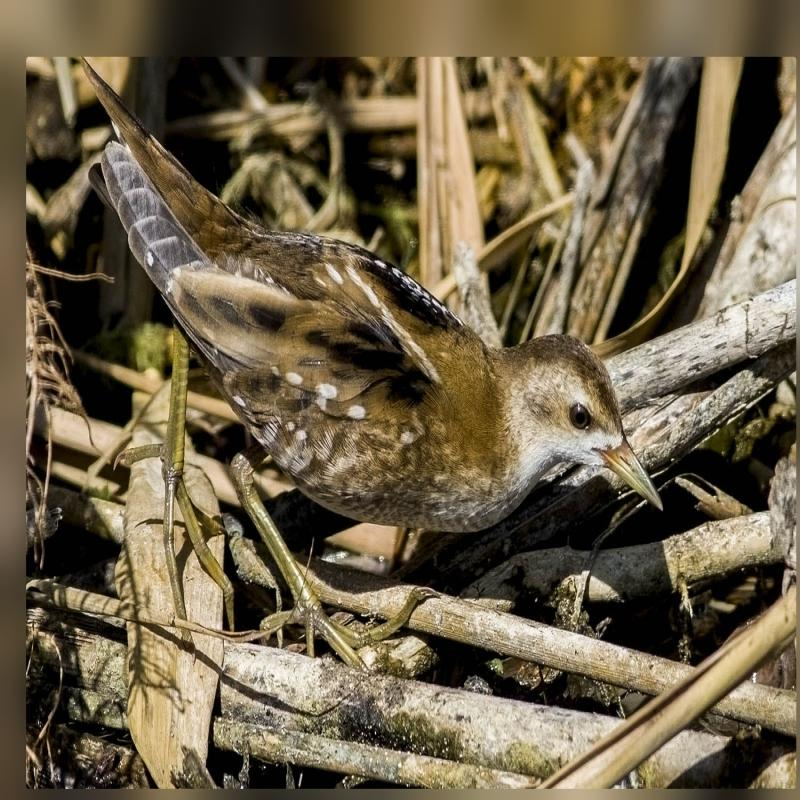little crake: (68, 54, 667, 538)
